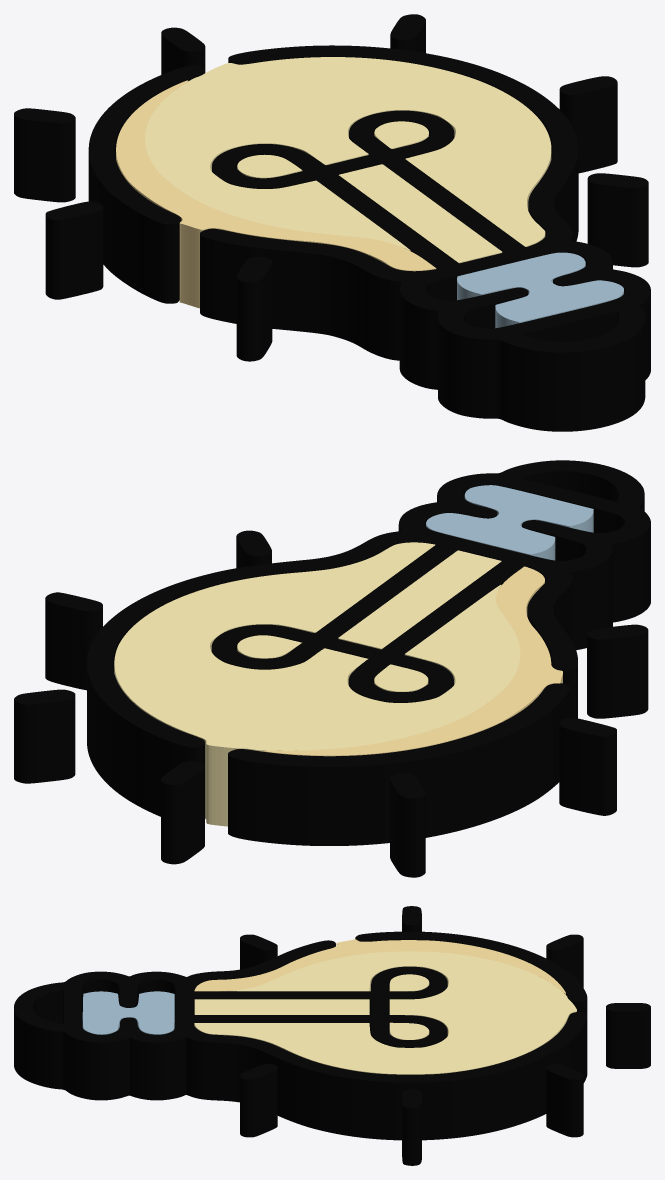
3 views of the same model, one above another, from view 1: azimuth 30°, elevation 25°; view 2: azimuth 150°, elevation 25°; view 3: azimuth 270°, elevation 25° (orthographic). The views are drawn at different scales.
Parts seen in each view (by area): view 1: imagetostl_mesh; view 2: imagetostl_mesh; view 3: imagetostl_mesh.
Part boxes in pixels (bbox=[...]): imagetostl_mesh: bbox=[14, 14, 650, 431]; imagetostl_mesh: bbox=[14, 460, 650, 877]; imagetostl_mesh: bbox=[14, 906, 650, 1165].
Size of the model in its own units: 7511 by 1000 by 10007.
